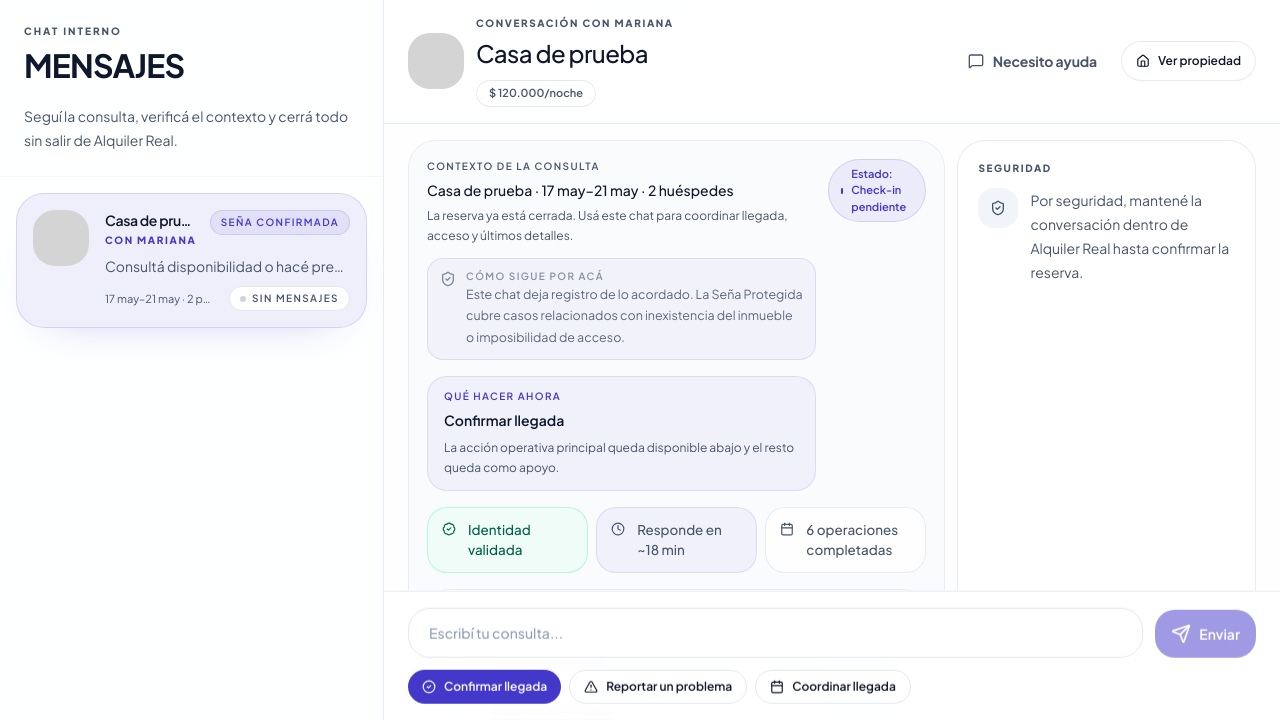
Test: SecureChat › lets the guest report an arrival problem from the protected chat summary
Click the button "Reportar un problema": (658, 687) 569,670 -> 747,704
(page scrolled)
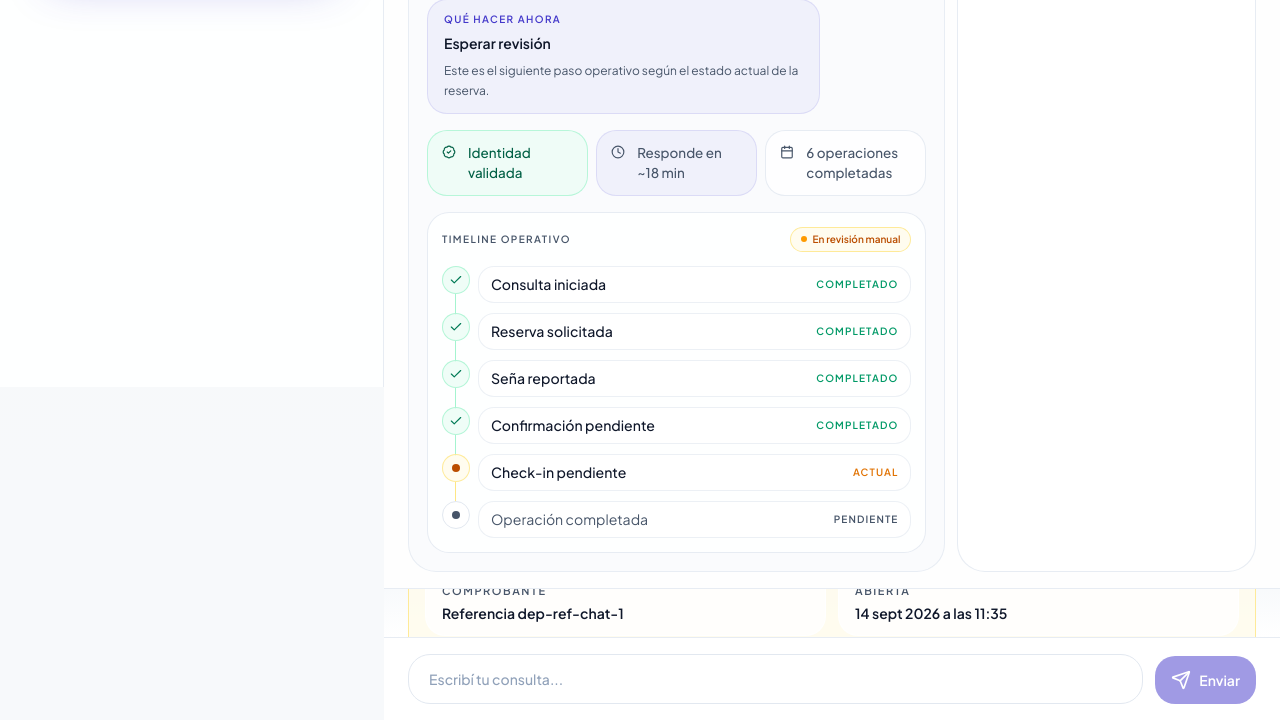
Expected: the text "Referencia dep-ref-chat-1" is shown, 442,604 -> 624,622
